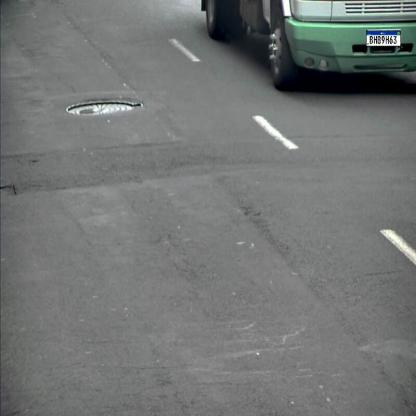PlacaM: (366, 30, 401, 46)
